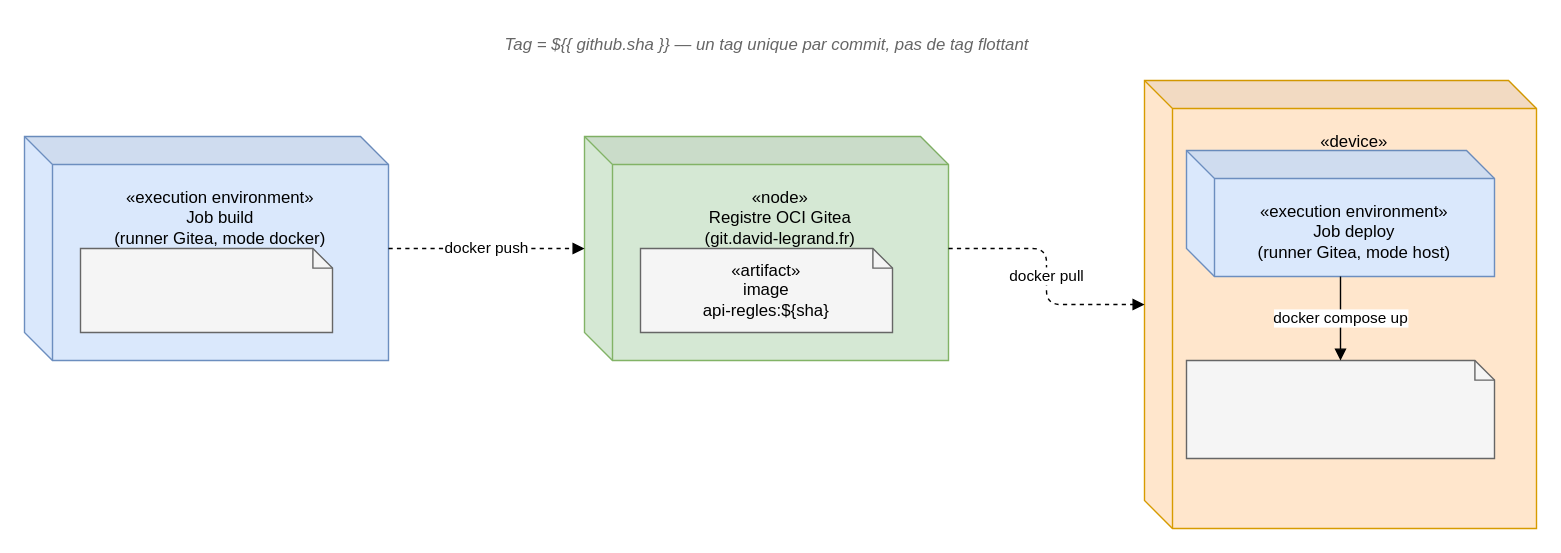
The diagram is 1561 pixels wide and 553 high, and some of its shapes have lost their labels. Here are the shapes that lost their labels. From the top down, the centre of each, then its label:
the point at 205,289: «artifact» code source (checkout)
the point at 1339,408: «artifact» conteneur api-regles (en cours d'exécution)
